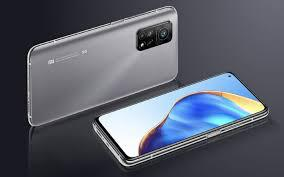Smartphone: (89, 62, 274, 177), (23, 7, 191, 123)
